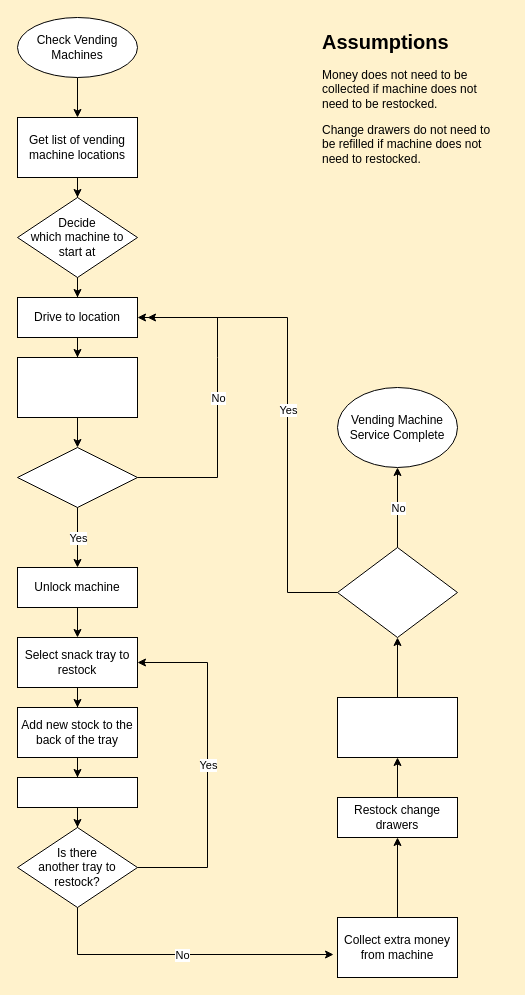
Image size: 525x995. Some labels were removed from this diagram. The shapes that lost their labels are listed below. From the top down, each one's centre as x and y in pixels, then its label:
At [77,387]: "Check vending machine stock through display".
At [77,477]: "Restocking required?".
At [397,592]: "Is there another machine to check?".
At [397,727]: "Lock up vending machine".
At [77,792]: "Replace tray".
